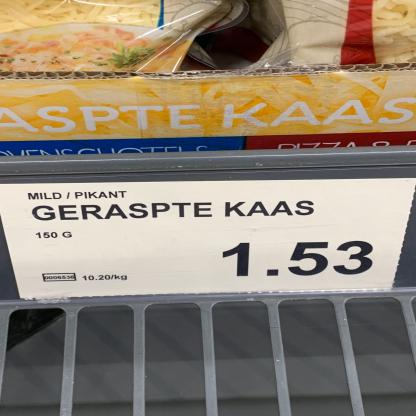prtg: (1, 179, 415, 300)
